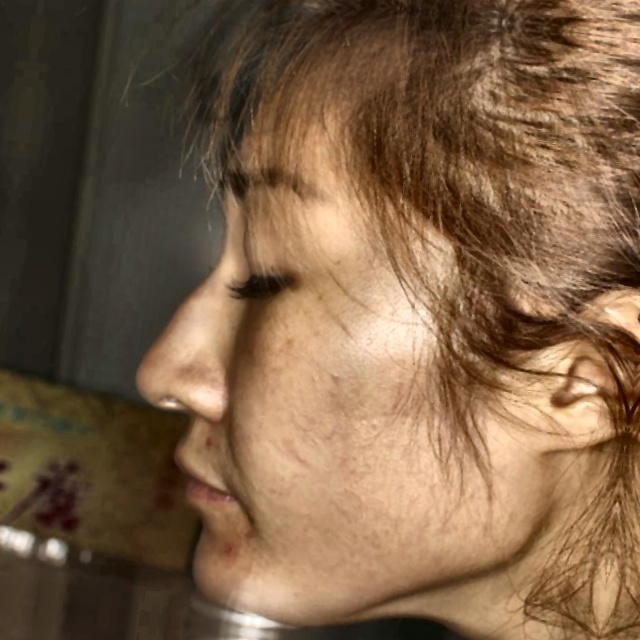comedone: (217, 529, 244, 568), (192, 425, 221, 461)
